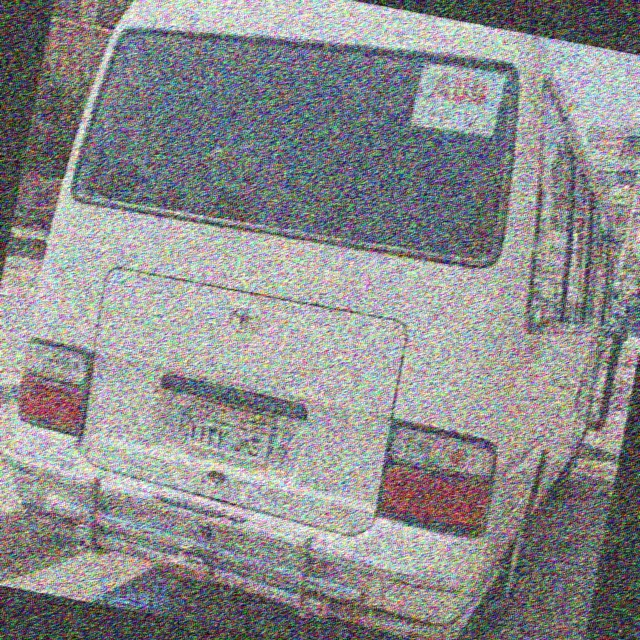License Plate: (181, 394, 278, 467)
